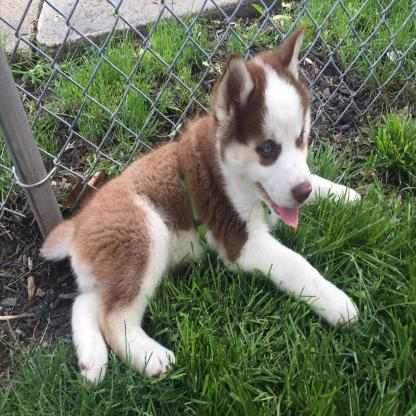dog: (36, 28, 360, 386)
